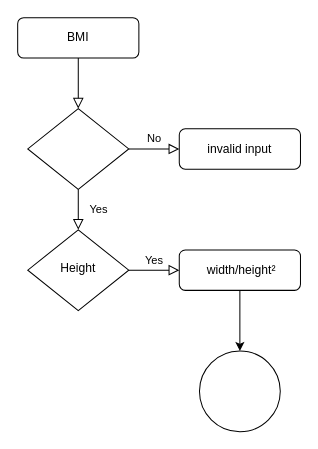
Some shapes in this 318 by 449 pixel diagram are drawn without their labels. Here are the shapes that lost their labels. From the top down, the centre of each, then its label:
At point 78,148: "Width".
At point 239,391: "BMI Result".
